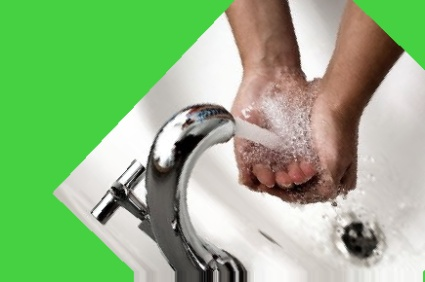washing hand: (91, 0, 424, 281)
